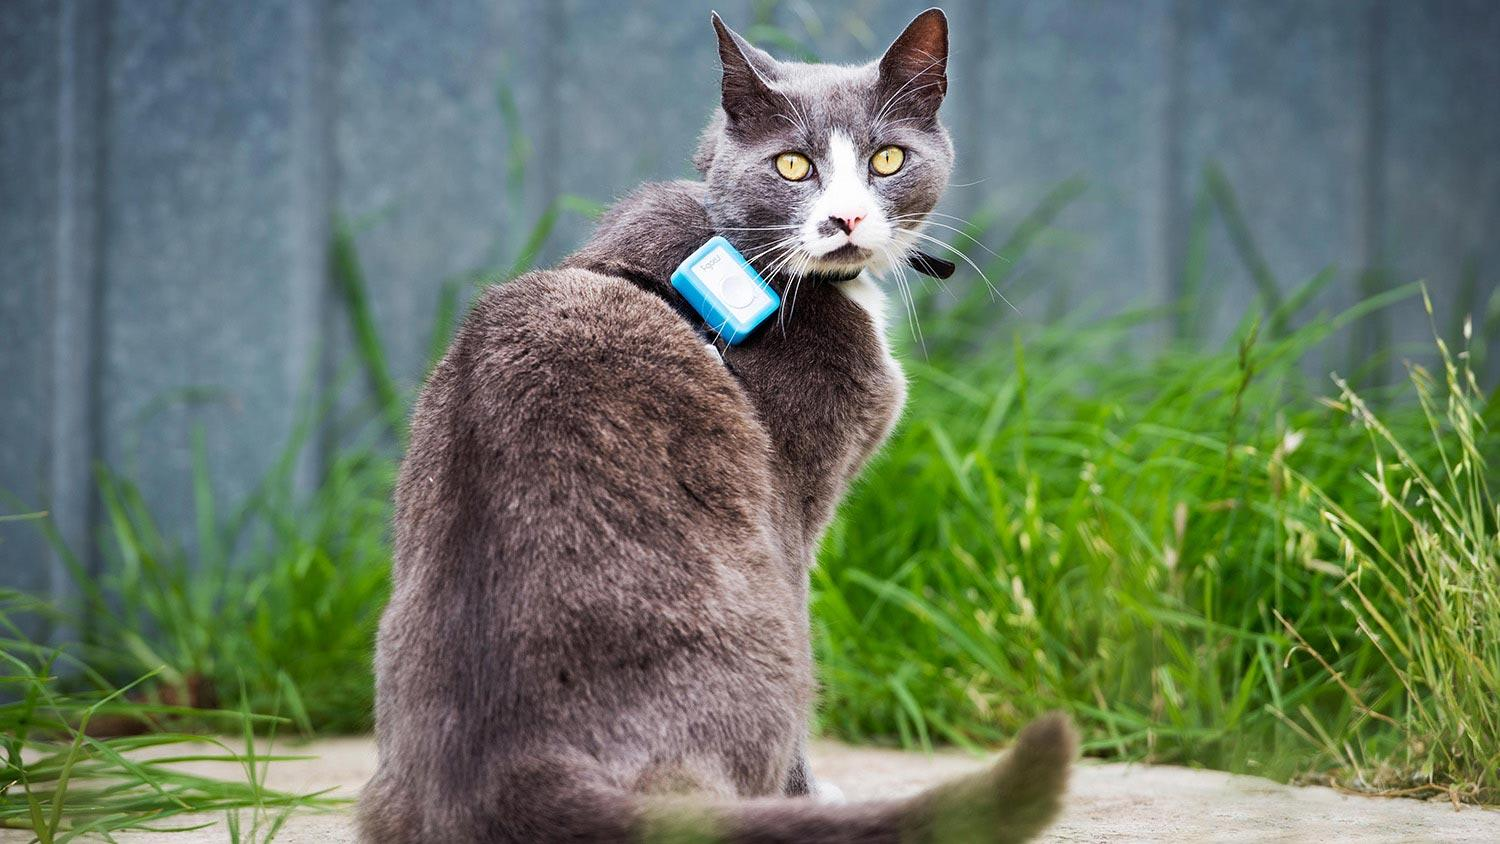Cat: (706, 0, 964, 278)
